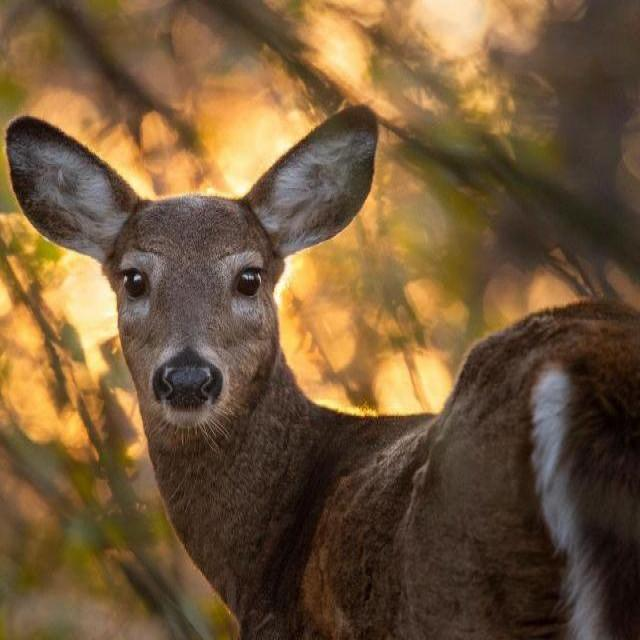deer: (6, 98, 632, 619)
